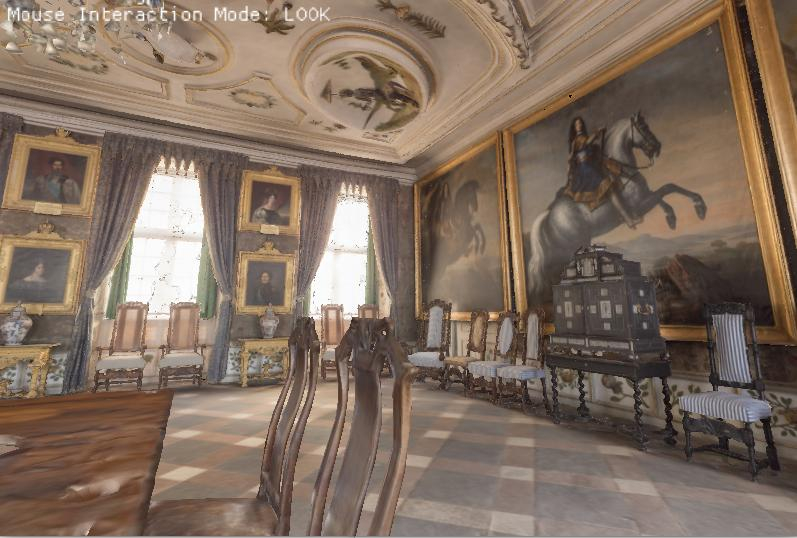chair: (141, 311, 314, 538), (681, 287, 788, 481), (499, 311, 546, 432), (97, 301, 149, 391), (408, 294, 456, 390), (164, 307, 210, 382)
table: (0, 374, 184, 538), (534, 331, 669, 437), (224, 332, 299, 384)
